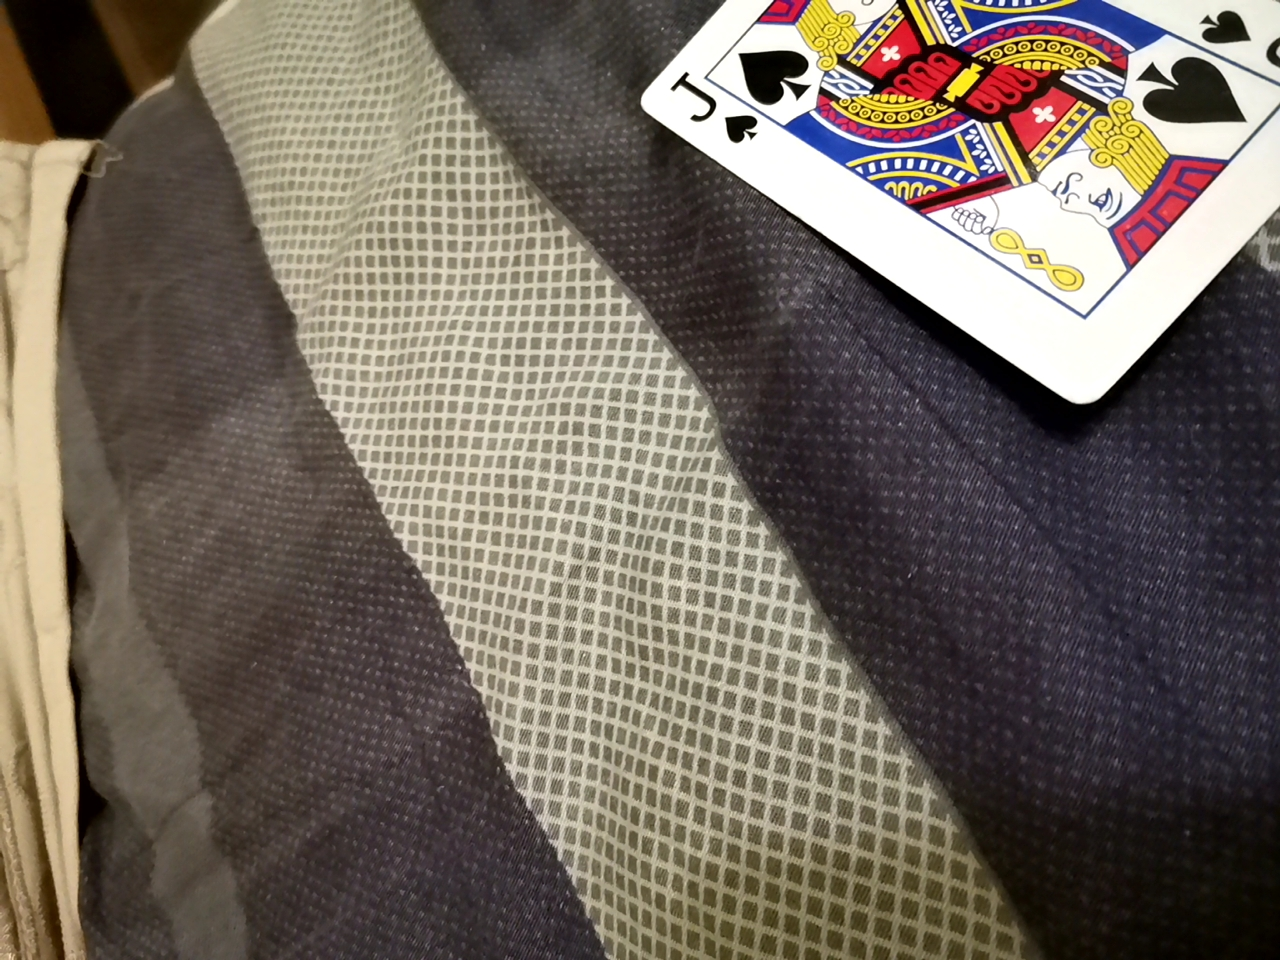ht j: (633, 0, 1276, 411)
